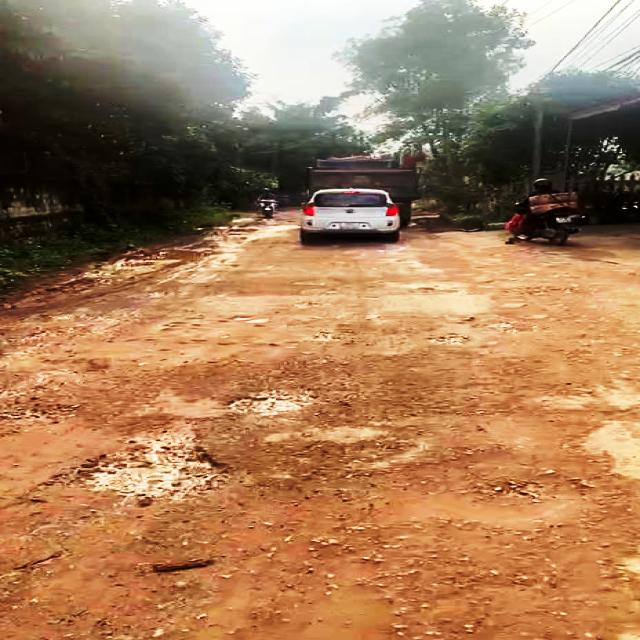pothole: (338, 452, 619, 528), (51, 424, 232, 507), (226, 387, 331, 418), (429, 333, 472, 346)
